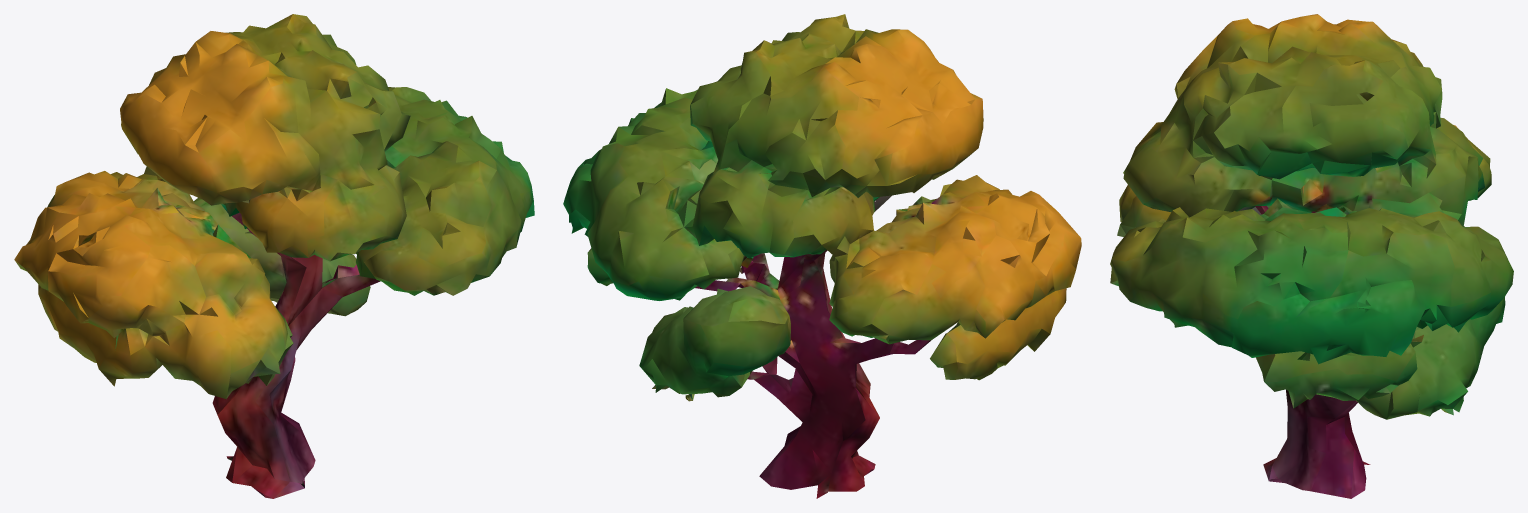
File: tree-oak.glb
3 renders of one model, left to right at view 1: azimuth 30°, elevation 25°; view 2: azimuth 150°, elevation 25°; view 3: azimuth 270°, elevation 25°, orthographic.
Parts seen in each view (by area): view 1: tree-oak.raw; view 2: tree-oak.raw; view 3: tree-oak.raw.
Boxes of the visible parts, x1,y1,x2,y2 form: tree-oak.raw: (14, 14, 534, 498); tree-oak.raw: (563, 14, 1081, 498); tree-oak.raw: (1110, 14, 1513, 498).
Bounding box in the file's own units: 10.68 × 9.95 × 8.16.
1 material, 1 textured.
